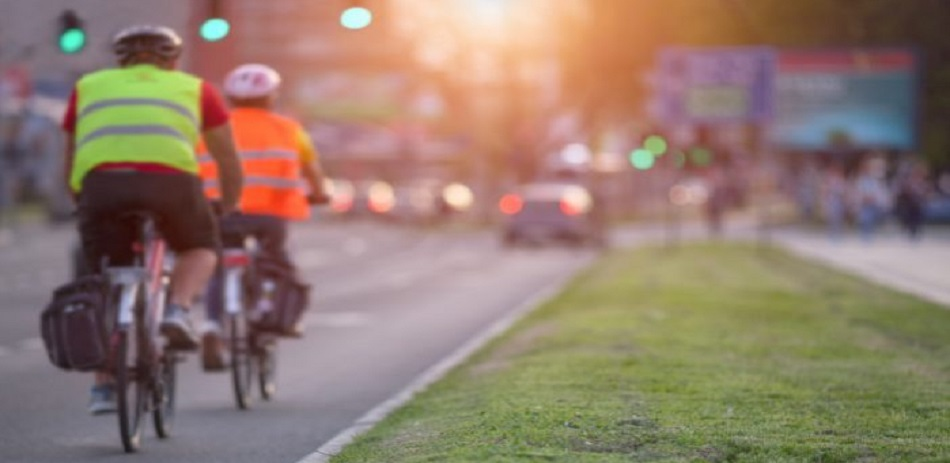commuter: (59, 23, 237, 454), (192, 64, 317, 409)
